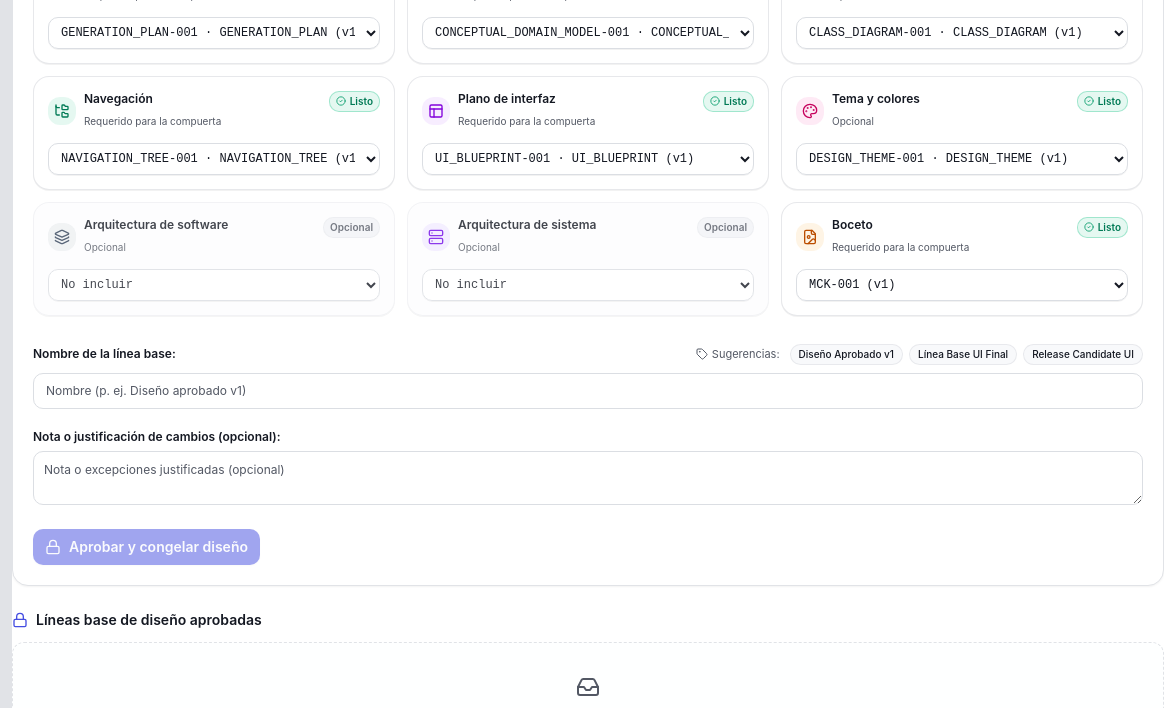
DesignBaselinePage › populates name input when clicking suggestion chips
This screenshot has width=1164, height=708.
(page scrolled)
What coordinates should you click on to do the following:
click the button "Diseño Aprobado v1"
I would click on:
 (846, 354)
Its box is [790,344,903,364].
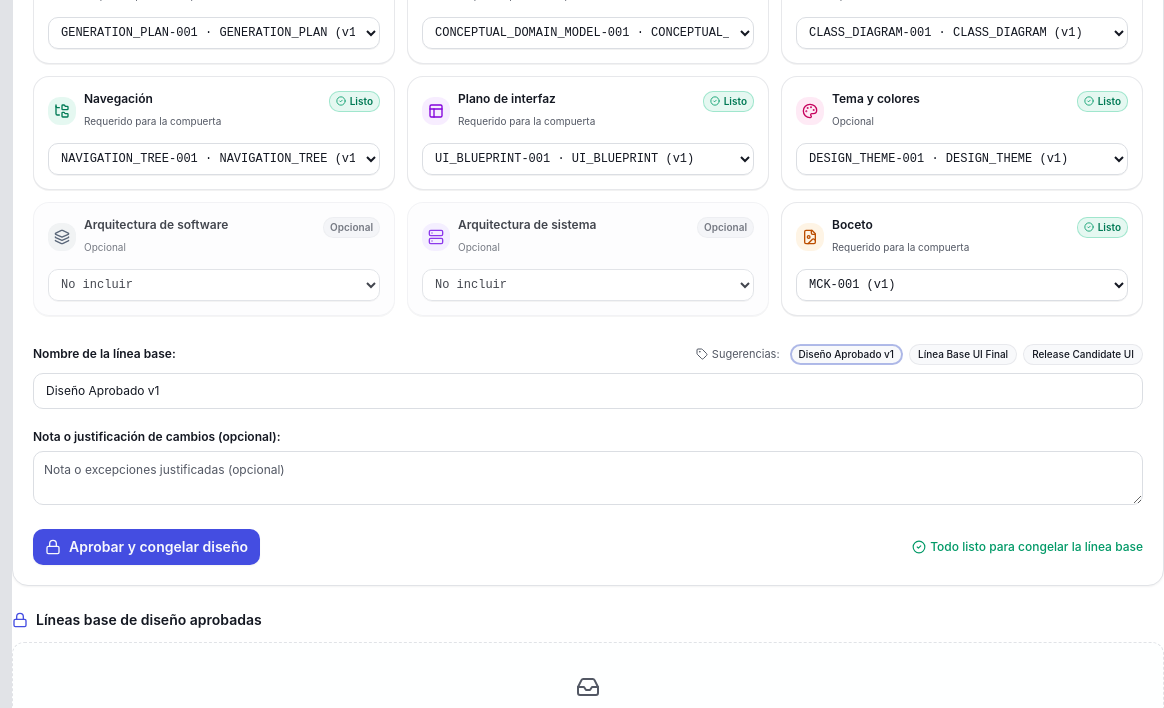
Expected: the field with placeholder "Nombre (p. ej. Diseño aprobado v1)" holds "Diseño Aprobado v1", [33,372,1143,408]
